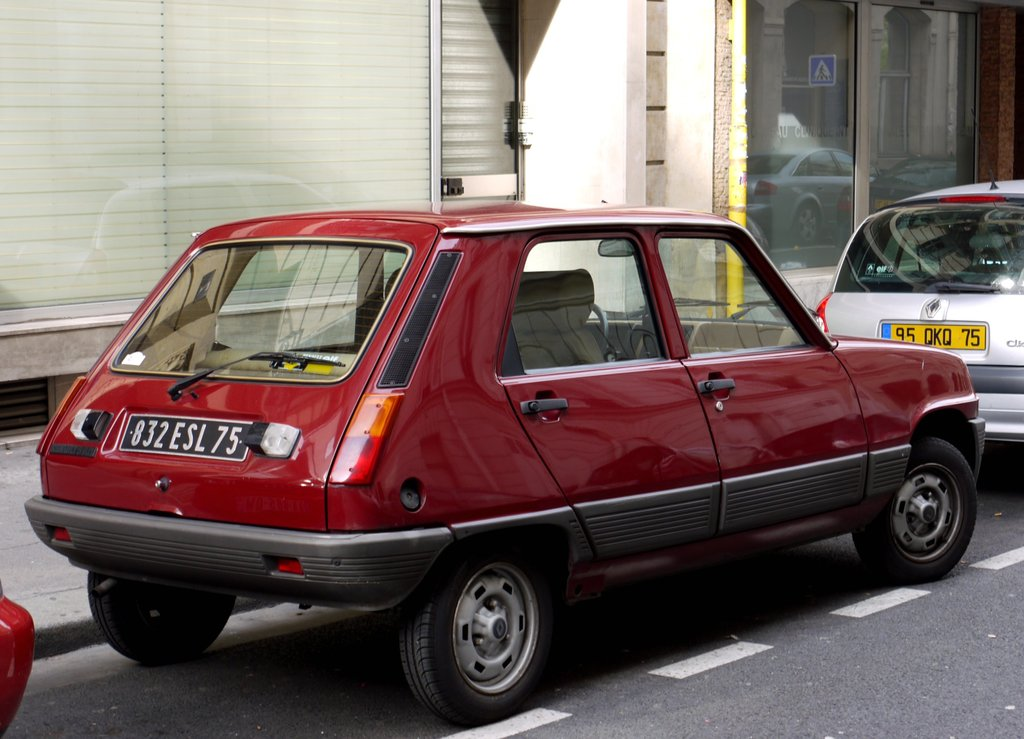Car: (23, 198, 990, 726), (808, 174, 1023, 453)
